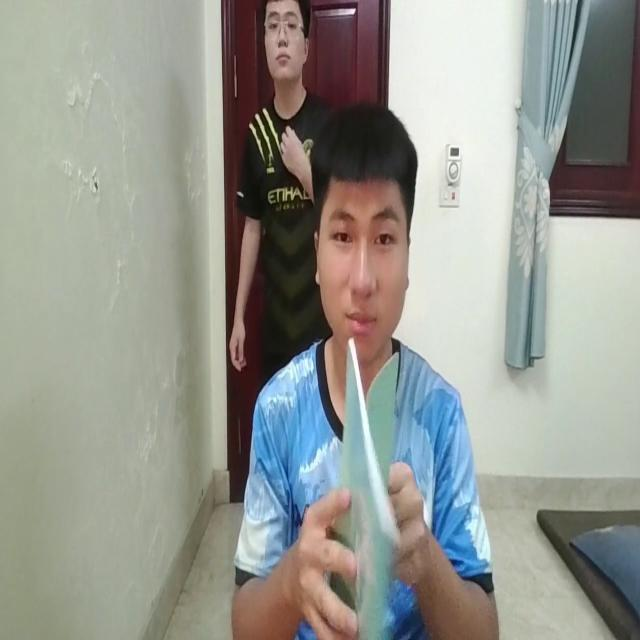book: (339, 328, 399, 633)
extra_person: (213, 3, 330, 416)
student: (241, 95, 494, 640)
